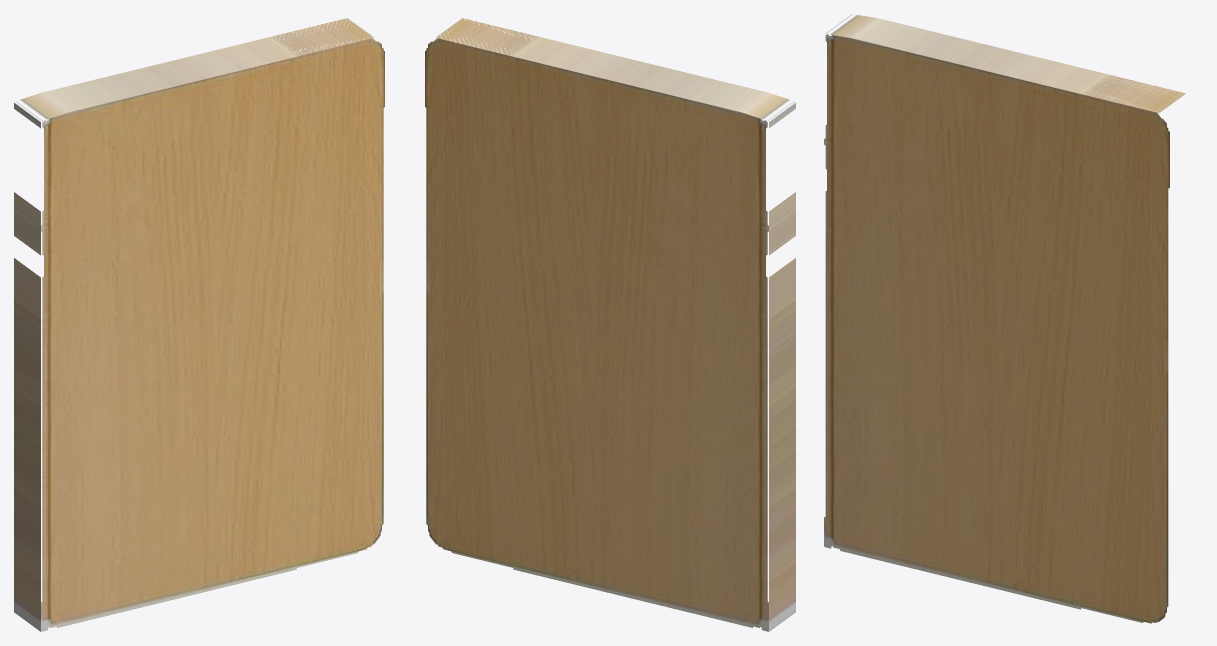
3 views of the same model, side by side, from view 1: azimuth 30°, elevation 25°; view 2: azimuth 150°, elevation 25°; view 3: azimuth 330°, elevation 25° (orthographic).
Visible parts, largest first — view 1: RC-018; view 2: RC-018; view 3: RC-018.
Boxes of the visible parts, x1,y1,x2,y2 form: RC-018: (14, 18, 384, 631); RC-018: (425, 18, 795, 631); RC-018: (824, 14, 1185, 623).
Bounding box in the file's own units: 15 × 21 × 2.
Materials: 1 (1 with a texture image).
